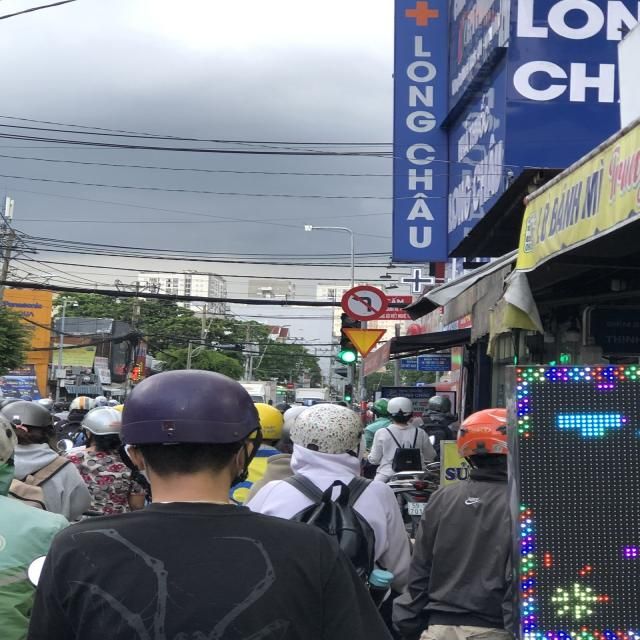Bien bao cam re trai: (338, 281, 389, 323)
Bien bao giao nhau voi duong uu tien: (339, 324, 389, 362)
